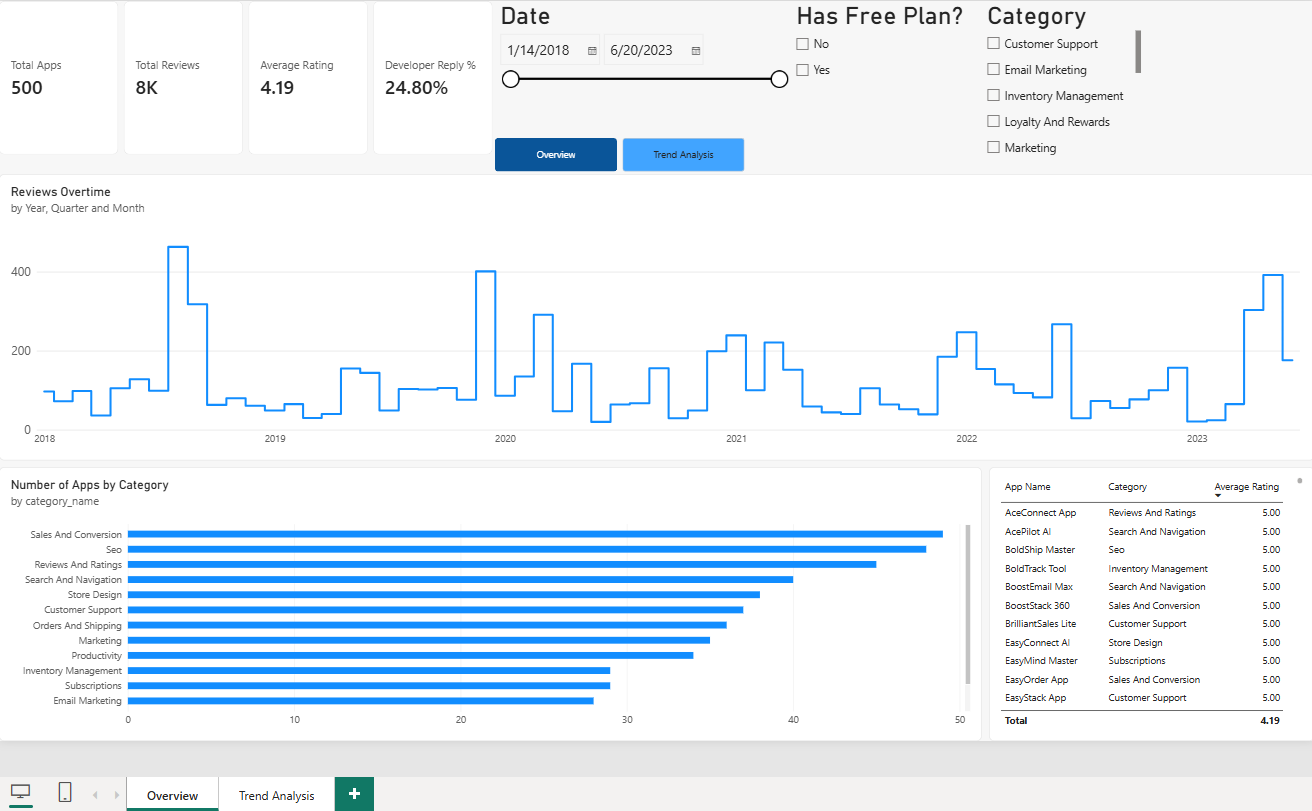

This screenshot's page, from the dashboard's own definition file:
{"tool":"powerbi","page":{"name":"Overview","canvas":[1920,1080],"ordinal":0},"visuals":[{"type":"cardVisual","fields":{"Data":["CountNonNull(apps.app_id)","dim_date.Total Reviews","Avg(reviews.rating)","apps.Developer Reply %"]},"box":[0,0,723.9,224.8],"z":0},{"type":"slicer","fields":{"Values":["apps.category_name"]},"box":[1434.4,0,232.3,224.8],"z":1000},{"type":"slicer","fields":{"Values":["apps.launch_date"]},"box":[723.9,0,431.7,224.8],"z":2000},{"type":"slicer","fields":{"Values":["apps.has_free_plan"]},"box":[1155.6,0,278.8,224.8],"z":3000},{"type":"lineChart","fields":{"Category":["apps.launch_date.Variation.Date Hierarchy.Year","apps.launch_date.Variation.Date Hierarchy.Quarter","apps.launch_date.Variation.Date Hierarchy.Month","apps.launch_date.Variation.Date Hierarchy.Day"],"Y":["CountNonNull(reviews.review_id)"]},"box":[0,251.8,1920,418.2],"z":3001},{"type":"clusteredBarChart","fields":{"Category":["apps.category_name"],"Y":["CountNonNull(apps.app_id)"]},"box":[0,680.5,1434.4,400.2],"z":3002},{"type":"tableEx","fields":{"Values":["apps.app_name","apps.category_name","Avg(reviews.rating)"]},"box":[1444.9,680.5,475.1,400.2],"z":3003},{"type":"pageNavigator","box":[723.9,199.3,365.7,49.5],"z":3004}]}

Visuals, with their boxes on the page's 1920x1080 design canvas (x1, y1, x2, y2). These are canvas units, not pixel positions in the 1312x811 screenshot, which may show the page scaled, cropped or inside an application window:
cardVisual - CountNonNull(apps.app_id) x dim_date.Total Reviews: [x1=0, y1=0, x2=724, y2=225]
slicer - apps.category_name: [x1=1434, y1=0, x2=1667, y2=225]
slicer - apps.launch_date: [x1=724, y1=0, x2=1156, y2=225]
slicer - apps.has_free_plan: [x1=1156, y1=0, x2=1434, y2=225]
lineChart - apps.launch_date.Variation.Date Hierarchy.Year x apps.launch_date.Variation.Date Hierarchy.Quarter: [x1=0, y1=252, x2=1920, y2=670]
clusteredBarChart - apps.category_name x CountNonNull(apps.app_id): [x1=0, y1=680, x2=1434, y2=1081]
tableEx - apps.app_name x apps.category_name: [x1=1445, y1=680, x2=1920, y2=1081]
pageNavigator: [x1=724, y1=199, x2=1090, y2=249]
